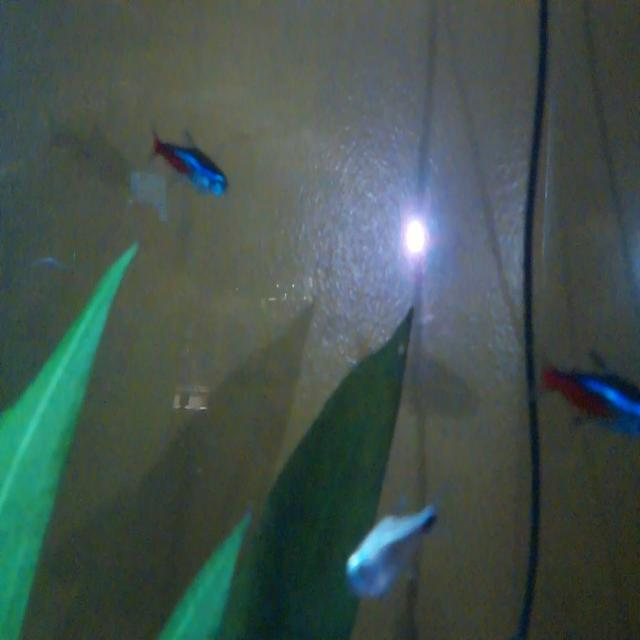fish: (331, 496, 445, 605), (145, 123, 235, 201)
